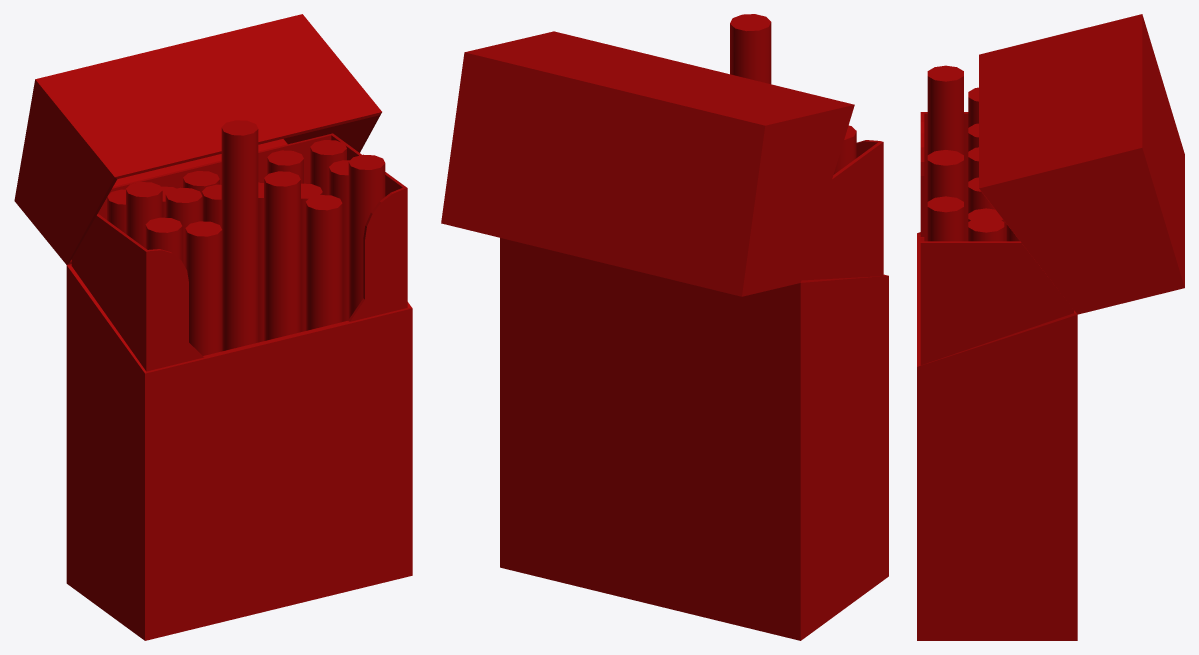
File: Cigs_gameasset.fbx
The picture shows the model from 3 angles, left to right: view 1: azimuth 30°, elevation 25°; view 2: azimuth 150°, elevation 25°; view 3: azimuth 270°, elevation 25°; orthographic projection. The views are drawn at different scales.
Parts seen in each view (by area): view 1: Cig_gameasset; view 2: Cig_gameasset; view 3: Cig_gameasset.
Boxes of the visible parts, box(x1,y1,x2,y2) form: Cig_gameasset: box(14, 14, 412, 640); Cig_gameasset: box(441, 14, 888, 640); Cig_gameasset: box(917, 14, 1184, 640).
Size of the model in its own units: 8.8 by 15.14 by 7.45.
